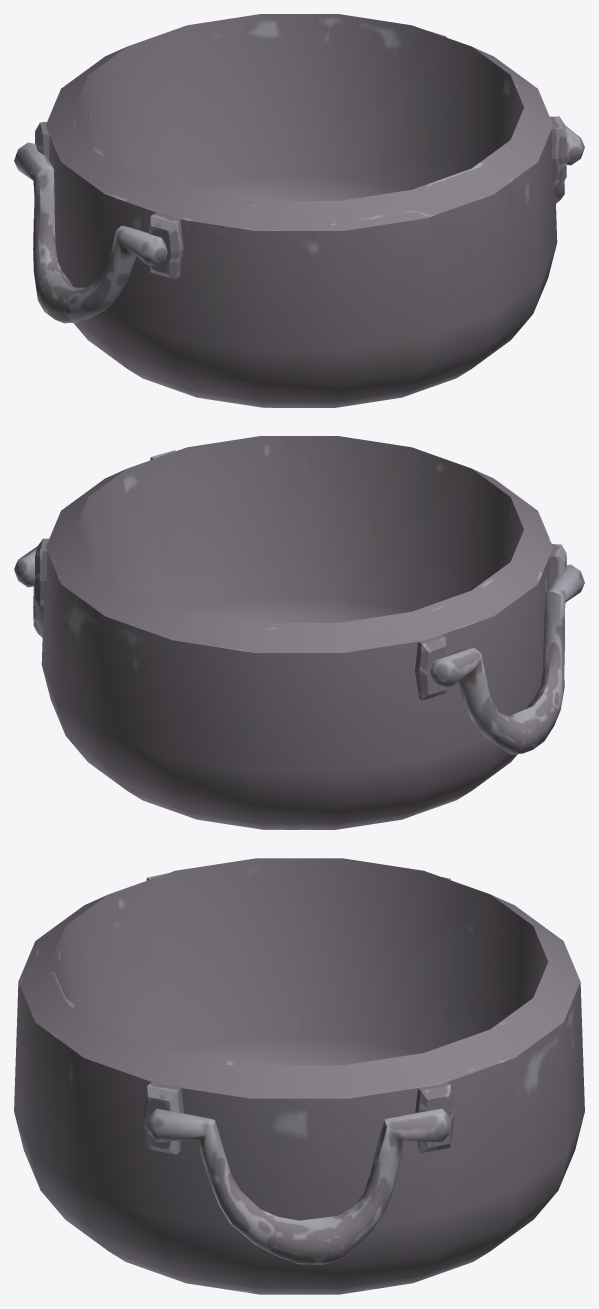
File: Pot_1.glb
3 views of the same model, one above another, from view 1: azimuth 30°, elevation 25°; view 2: azimuth 150°, elevation 25°; view 3: azimuth 270°, elevation 25° (orthographic). The views are drawn at different scales.
Visible parts, largest first — view 1: Pot_1; view 2: Pot_1; view 3: Pot_1.
Part boxes in pixels (x1,y1,x2,y2): Pot_1: (14,14,584,407); Pot_1: (14,436,584,829); Pot_1: (14,858,584,1294).
Bounding box in the file's own units: 0.5393 × 0.2238 × 0.4861.
Materials: 1 (1 with a texture image).
